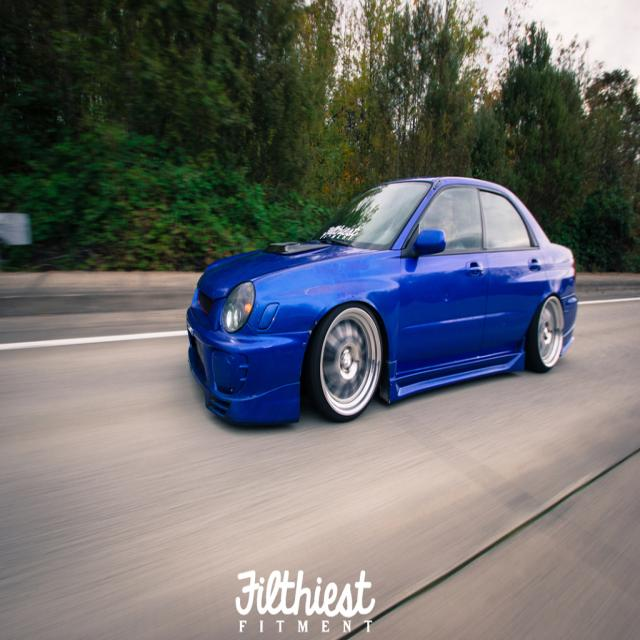car: (185, 165, 581, 424)
